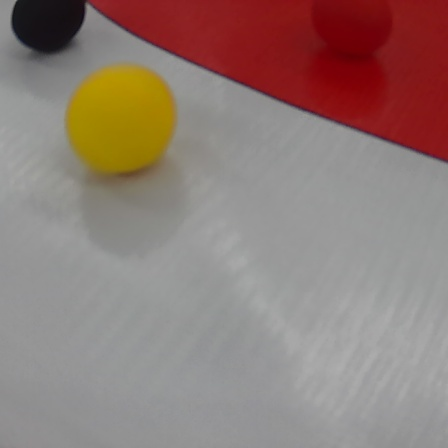black: (5, 0, 85, 53)
red: (314, 0, 389, 58)
red_base: (91, 0, 446, 169)
yellow: (63, 60, 179, 178)
